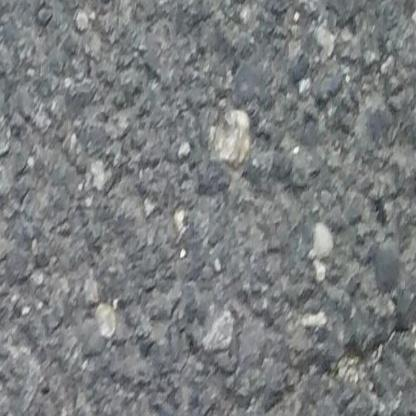Cracks: (176, 305, 416, 416)
